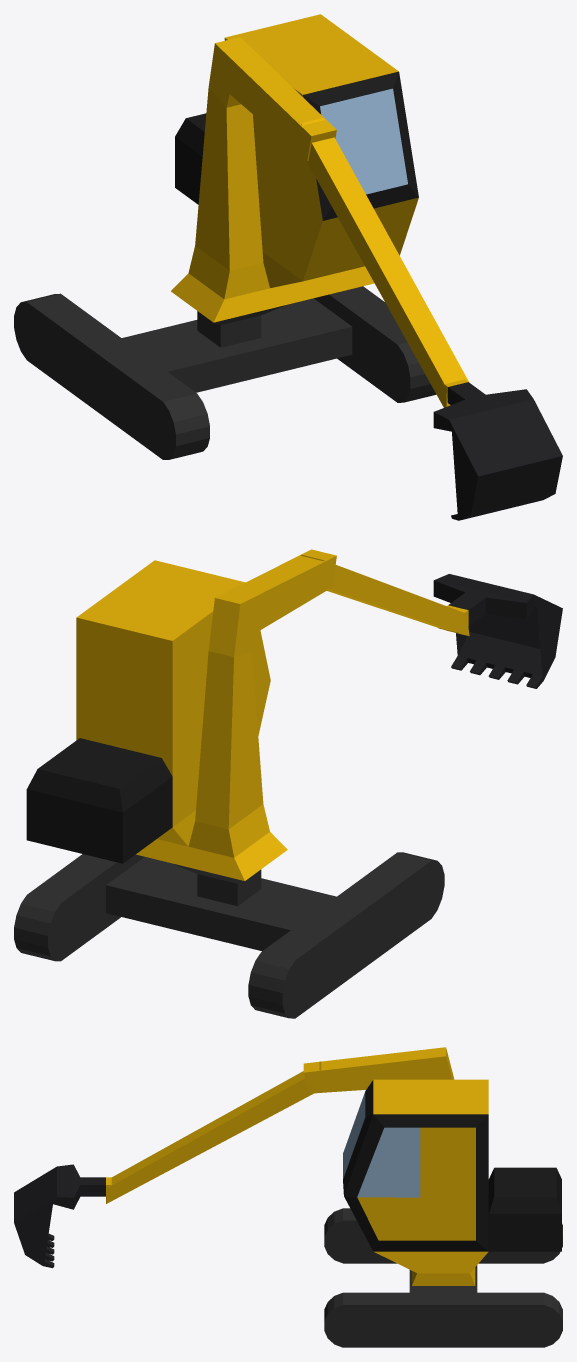
The model's file is excavator.fbx.
3 renders of one model, top to bottom at view 1: azimuth 30°, elevation 25°; view 2: azimuth 150°, elevation 25°; view 3: azimuth 270°, elevation 25°, orthographic. The views are drawn at different scales.
Visible parts, largest first — view 1: excavator, bucket, arm; view 2: excavator, bucket, arm; view 3: excavator, arm, bucket.
Boxes of the visible parts, left/top/right/bottom form: excavator: left=14, top=14, right=436, bottom=459; bucket: left=433, top=379, right=562, bottom=520; arm: left=301, top=118, right=469, bottom=407; excavator: left=14, top=549, right=444, bottom=1018; bucket: left=433, top=574, right=562, bottom=688; arm: left=301, top=554, right=469, bottom=636; excavator: left=303, top=1047, right=562, bottom=1347; arm: left=106, top=1061, right=321, bottom=1203; bucket: left=14, top=1164, right=111, bottom=1268.
Bounding box in the file's own units: 458 × 548 × 1101.
